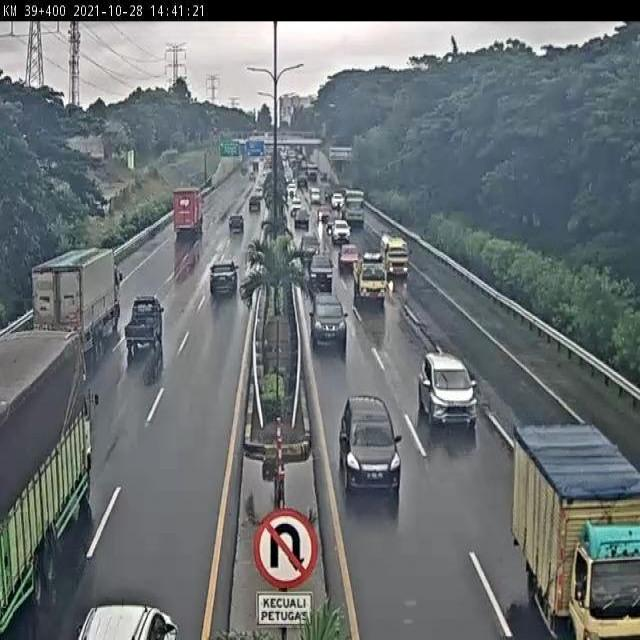car: (338, 395, 402, 492), (417, 349, 479, 428), (308, 292, 348, 352), (209, 259, 238, 296), (307, 254, 334, 290)
mid truck: (0, 329, 100, 631), (29, 247, 123, 352)
small truck: (123, 296, 164, 355)
truck-m-: (508, 424, 639, 640), (352, 251, 388, 301), (380, 233, 410, 275)
